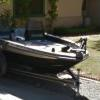Boat: (2, 25, 100, 73)
